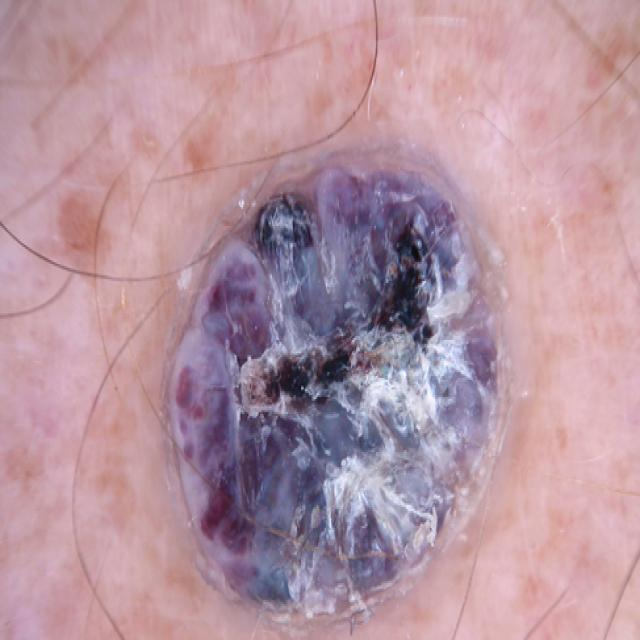Vascular Lesions: (177, 102, 525, 640)
